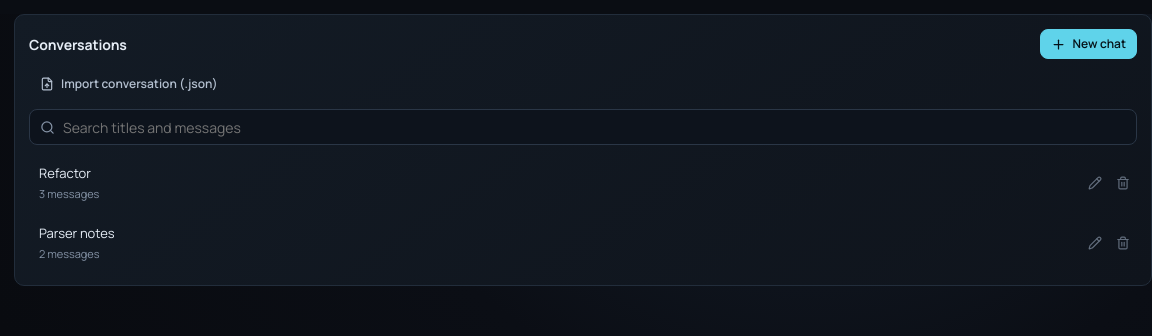
it: ConversationList content search › reports a failed search as an error rather than as no matches
Type "x" into the search field. click: (594, 127)
box: [63,110,1126,144]
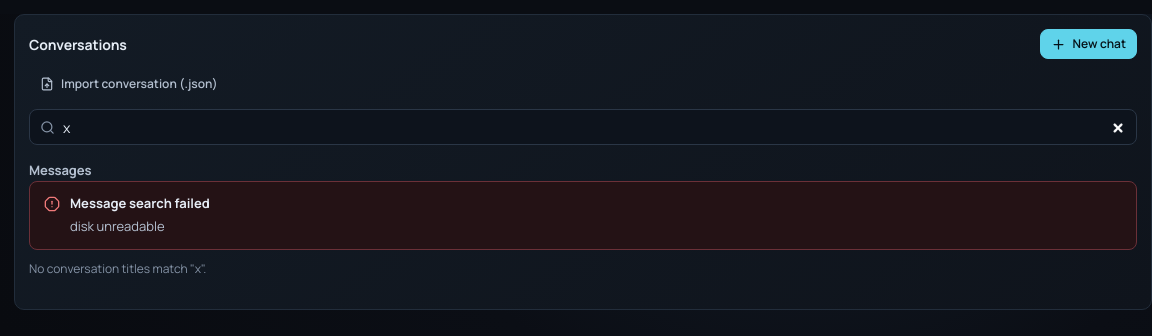
Expected: the text "Message search failed" is shown, [70,194,210,212]
Expected: the text "disk unreadable" is shown, [70,217,165,235]
